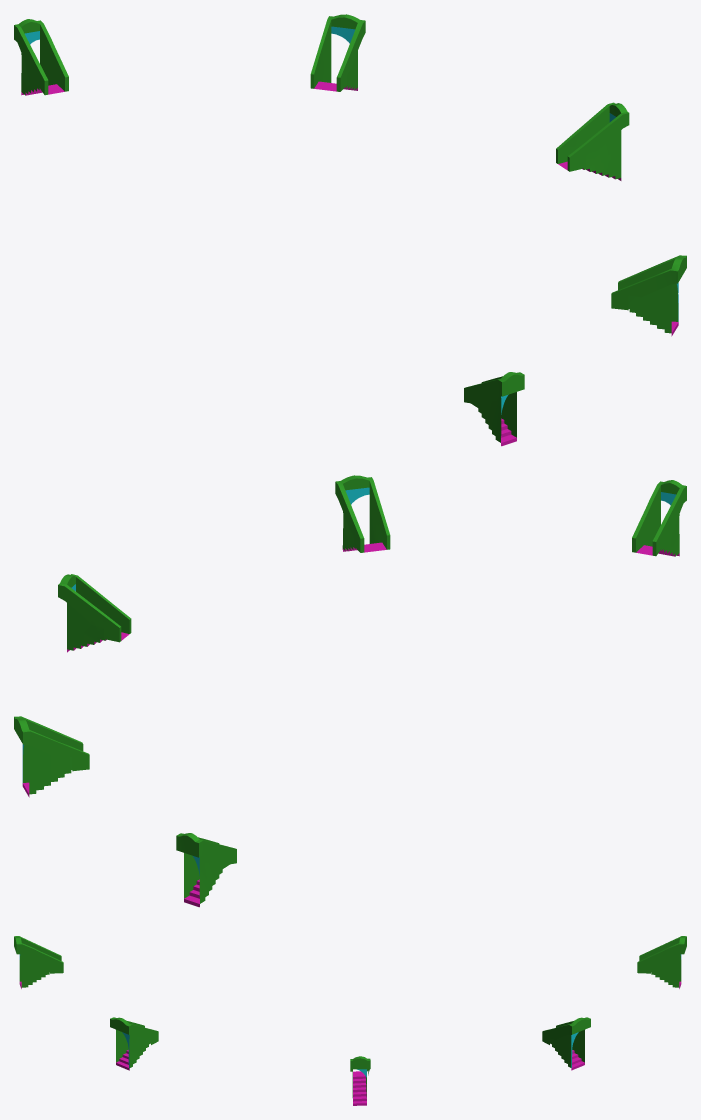
The model's file is Vomitoires.fbx.
3 renders of one model, top to bottom at view 1: azimuth 30°, elevation 25°; view 2: azimuth 150°, elevation 25°; view 3: azimuth 270°, elevation 25°, orthographic. The views are drawn at different scales.
Parts seen in each view (by area): view 1: Vomitoires; view 2: Vomitoires; view 3: Vomitoires.
Boxes of the visible parts, box(x1,y1,x2,y2) form: Vomitoires: box(14, 14, 686, 446); Vomitoires: box(14, 475, 686, 907); Vomitoires: box(14, 936, 686, 1105).
Bounding box in the file's own units: 2300 × 421 × 5185.
